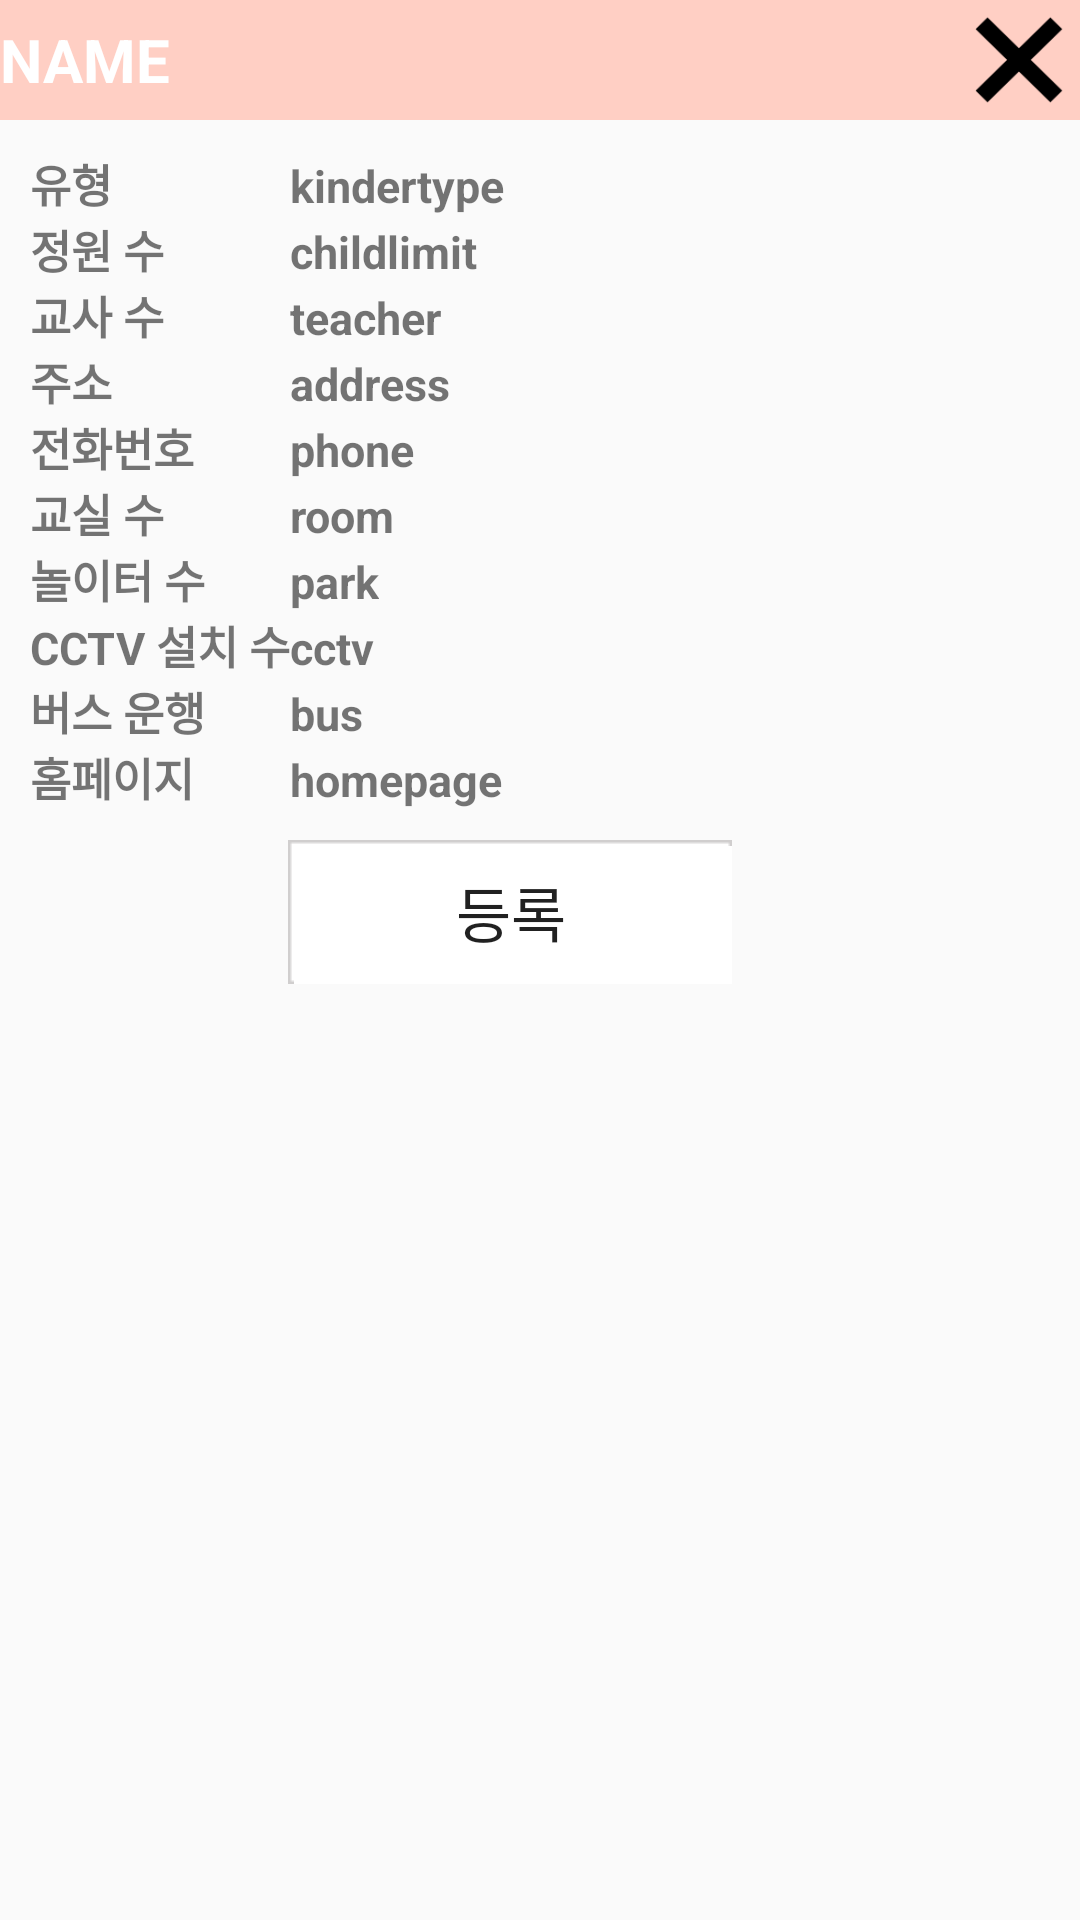

Icons on this 1080 x 1920 Android screen, each with its box as (x1, y1, x2, y2):
delete: (976, 17, 1063, 103)
